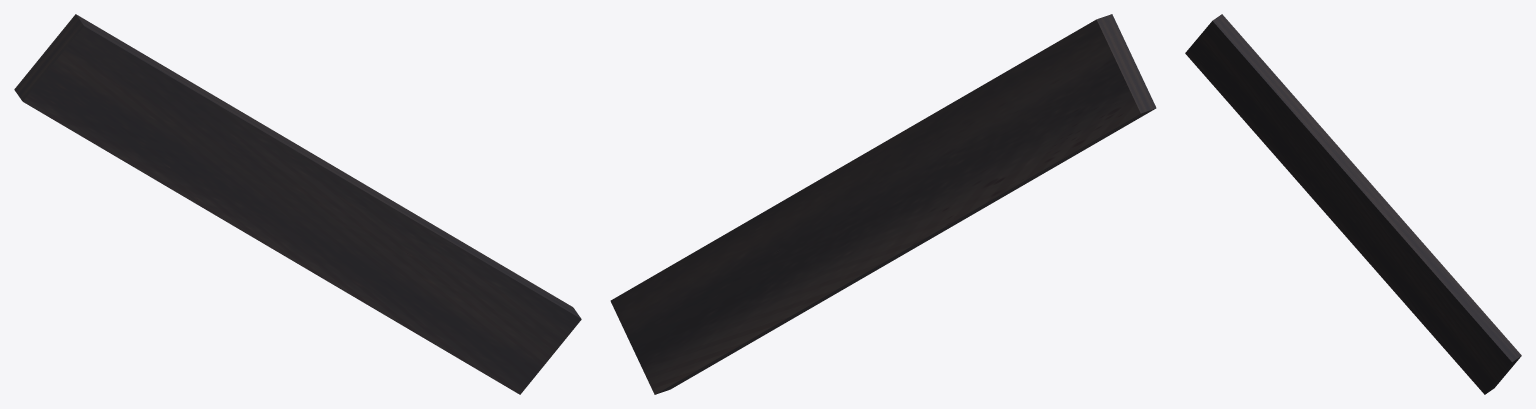
File: tabua2.fbx
3 renders of one model, left to right at view 1: azimuth 30°, elevation 25°; view 2: azimuth 150°, elevation 25°; view 3: azimuth 330°, elevation 25°, orthographic. The views are drawn at different scales.
Parts seen in each view (by area): view 1: Cube.025; view 2: Cube.025; view 3: Cube.025.
Boxes of the visible parts, x1,y1,x2,y2 form: Cube.025: (14, 14, 581, 394); Cube.025: (610, 14, 1156, 394); Cube.025: (1185, 14, 1521, 394).
Bounding box in the file's own units: 145 × 122 × 18.19.
Materials: 1 (1 with a texture image).
